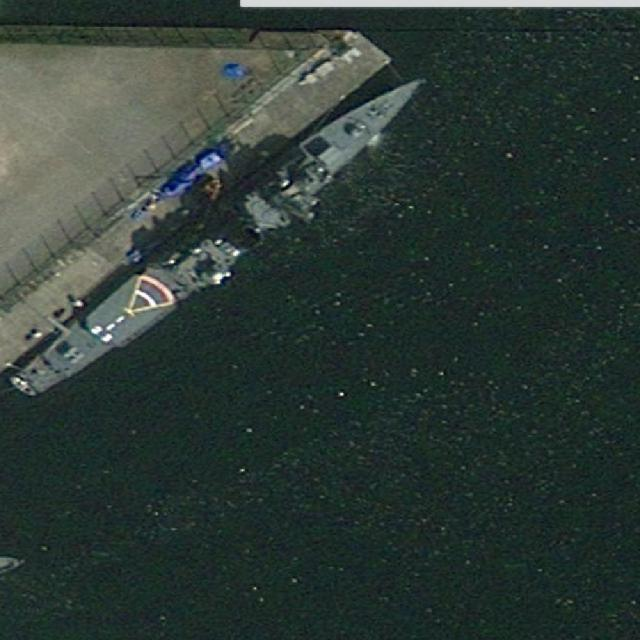Destroyer: (8, 62, 433, 414)
